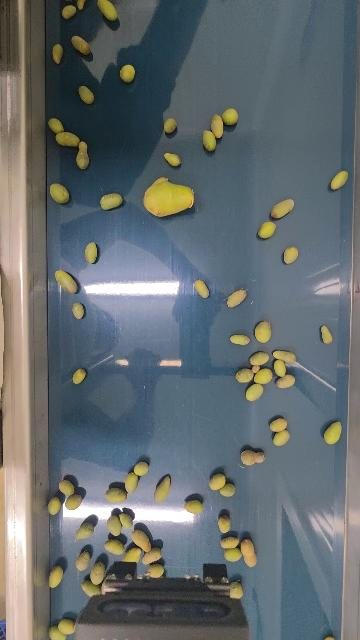Baby Potato: (142, 177, 196, 219), (55, 268, 79, 295), (240, 537, 258, 568), (96, 0, 120, 23), (271, 197, 295, 220), (49, 181, 70, 205), (324, 420, 343, 446), (226, 288, 249, 309), (70, 34, 91, 56), (154, 475, 171, 502), (240, 449, 266, 466), (330, 169, 349, 192), (100, 192, 123, 211), (209, 113, 225, 140), (254, 320, 272, 344), (55, 131, 80, 148), (132, 529, 151, 551), (245, 382, 265, 402), (272, 348, 297, 364), (253, 366, 274, 385), (248, 350, 270, 368), (76, 140, 89, 170), (90, 561, 106, 585), (48, 565, 64, 589), (258, 220, 277, 240), (105, 487, 126, 505), (141, 546, 162, 564), (75, 549, 91, 572), (201, 129, 217, 152), (106, 514, 122, 537), (78, 84, 95, 105), (235, 367, 257, 383), (221, 107, 239, 126), (104, 539, 125, 555), (76, 522, 94, 540), (64, 493, 83, 510), (84, 241, 98, 264), (120, 63, 136, 83), (275, 374, 296, 389), (58, 478, 75, 496), (272, 429, 290, 446), (272, 358, 288, 377), (163, 151, 182, 167), (282, 245, 298, 264), (269, 417, 288, 433), (81, 580, 100, 596), (194, 279, 209, 299), (184, 499, 204, 514), (124, 472, 138, 493), (209, 472, 225, 490), (58, 618, 76, 634), (51, 43, 64, 65), (229, 333, 251, 346), (229, 580, 244, 599), (223, 547, 242, 562), (146, 563, 165, 578), (48, 495, 61, 516), (72, 367, 87, 385), (118, 512, 133, 530), (125, 547, 143, 562), (217, 515, 231, 534), (320, 324, 333, 344), (133, 460, 149, 476), (48, 117, 64, 133), (61, 4, 77, 20), (162, 117, 177, 134), (71, 301, 85, 319), (220, 537, 240, 549), (48, 625, 64, 640), (220, 483, 236, 497), (76, 1, 87, 10)
